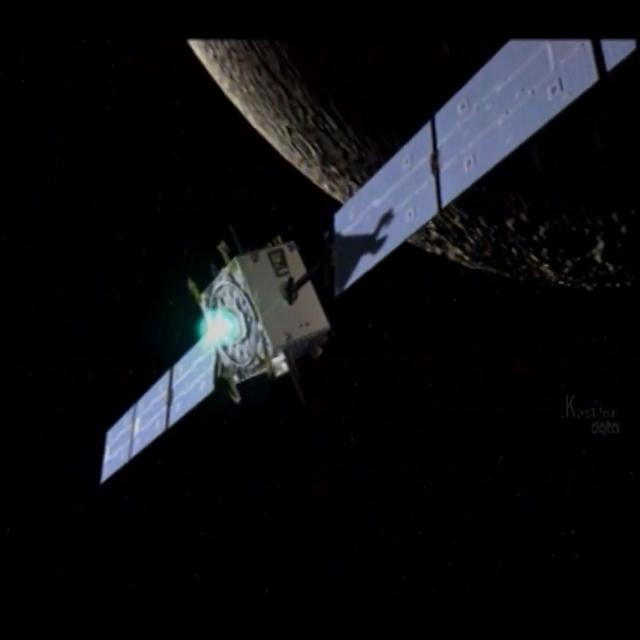large_debris: (148, 0, 640, 297)
satellite: (68, 0, 640, 535)
